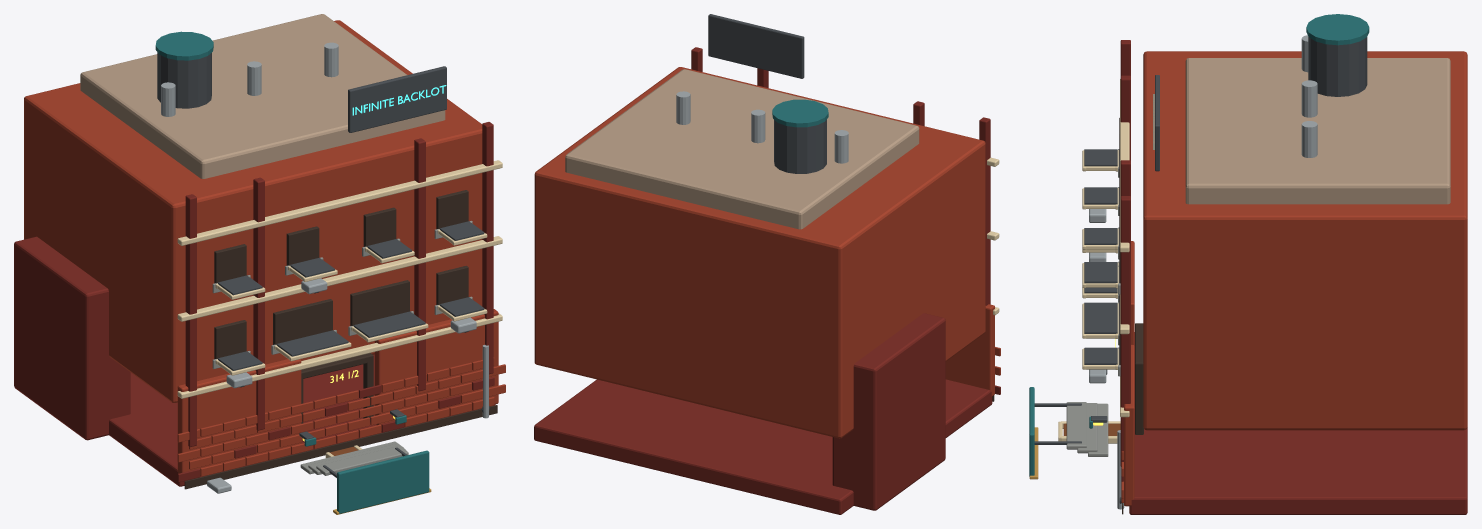
The model's file is apartment_exterior_a.glb.
The picture shows the model from 3 angles, left to right: view 1: azimuth 30°, elevation 25°; view 2: azimuth 150°, elevation 25°; view 3: azimuth 270°, elevation 25°; orthographic projection. The views are drawn at different scales.
Visible parts, largest first — view 1: Exterior_UpperMass, Exterior_RoofSetback, ServiceBay, Exterior_Plinth, Facade_Left, Facade_Right, RoofSignFrame, Canopy, Facade_Stringcourse.002, GroundGrime, Facade_Stringcourse.001, Facade_Pilaster (+18 smaller); view 2: Exterior_UpperMass, Exterior_RoofSetback, Exterior_Plinth, ServiceBay, RoofSignFrame, WaterTank, Facade_Left, TankCap, Facade_Pilaster; view 3: Exterior_UpperMass, Exterior_RoofSetback, Exterior_Plinth, WaterTank, Facade_Pilaster.003, TankCap, Facade_Right, RecessShadow.002, EntranceStep.002, Facade_Stringcourse.002, EntranceRevealRight, RoofVent.001 (+10 smaller).
Boxes of the visible parts, x1,y1,x2,y2 form: Exterior_UpperMass: (24, 20, 482, 402); Exterior_RoofSetback: (80, 14, 445, 178); ServiceBay: (14, 236, 130, 440); Exterior_Plinth: (109, 354, 495, 486); Facade_Left: (177, 359, 301, 475); Facade_Right: (374, 309, 498, 431); RoofSignFrame: (348, 66, 446, 132); Canopy: (337, 450, 429, 513); Facade_Stringcourse.002: (177, 160, 502, 245); GroundGrime: (184, 405, 497, 489); Facade_Stringcourse.001: (177, 236, 502, 321); Facade_Pilaster: (185, 194, 196, 447); Exterior_UpperMass: (534, 67, 985, 438); Exterior_RoofSetback: (565, 69, 919, 229); Exterior_Plinth: (534, 379, 992, 514); ServiceBay: (832, 313, 945, 510); RoofSignFrame: (708, 14, 804, 78); WaterTank: (774, 119, 826, 173); Facade_Left: (945, 304, 994, 396); TankCap: (772, 99, 828, 127); Facade_Pilaster: (979, 117, 990, 305); Exterior_UpperMass: (1143, 51, 1467, 430); Exterior_RoofSetback: (1185, 58, 1450, 204); Exterior_Plinth: (1129, 332, 1467, 514); WaterTank: (1308, 37, 1367, 96); Facade_Pilaster.003: (1120, 196, 1130, 466); TankCap: (1306, 14, 1369, 45); Facade_Right: (1124, 344, 1134, 506); RecessShadow.002: (1084, 302, 1117, 333); EntranceStep.002: (1066, 402, 1086, 449); Facade_Stringcourse.002: (1120, 79, 1129, 252); EntranceRevealRight: (1135, 365, 1143, 434); RoofVent.001: (1301, 80, 1317, 117).
Size of what is drawn, in the model's own units: 15.26 by 15.56 by 15.54.
